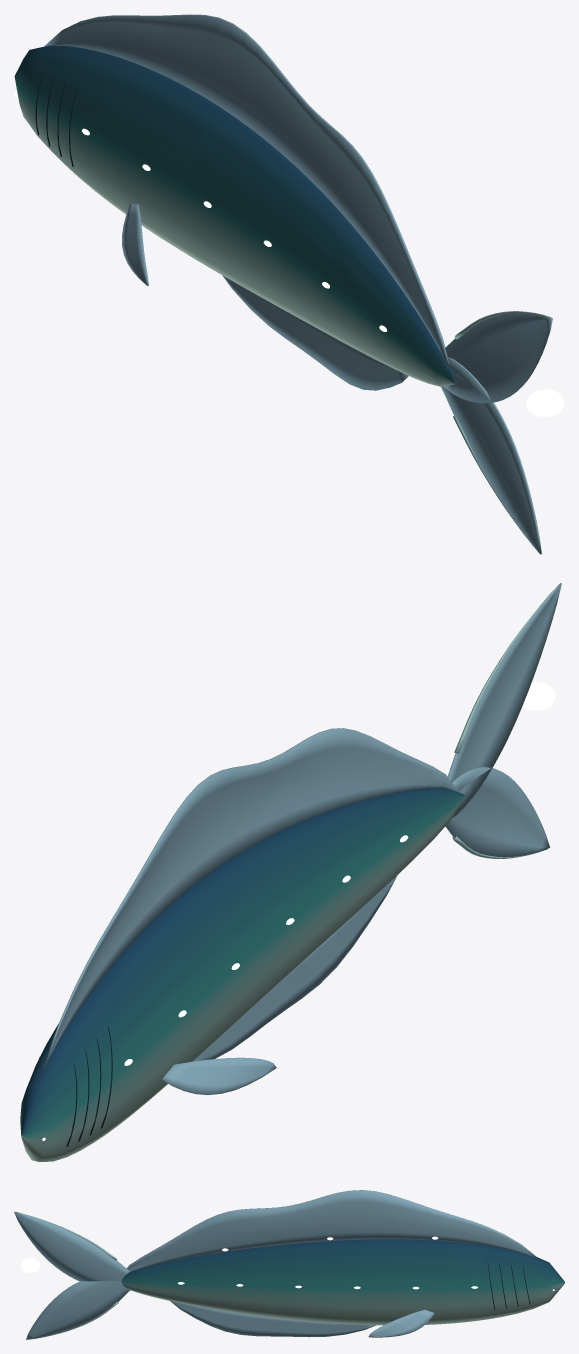
3 renders of one model, top to bottom at view 1: azimuth 30°, elevation 25°; view 2: azimuth 150°, elevation 25°; view 3: azimuth 270°, elevation 25°, orthographic. The views are drawn at different scales.
Parts seen in each view (by area): view 1: RIMWARD_HULL, RIMWARD_ENGINE_GLOW; view 2: RIMWARD_HULL, RIMWARD_ENGINE_GLOW; view 3: RIMWARD_HULL, RIMWARD_ENGINE_GLOW.
Boxes of the visible parts, bbox=[...] form: RIMWARD_HULL: bbox=[14, 14, 552, 554]; RIMWARD_ENGINE_GLOW: bbox=[525, 389, 564, 416]; RIMWARD_HULL: bbox=[20, 583, 561, 1161]; RIMWARD_ENGINE_GLOW: bbox=[522, 681, 555, 710]; RIMWARD_HULL: bbox=[14, 1190, 564, 1339]; RIMWARD_ENGINE_GLOW: bbox=[20, 1258, 40, 1272].
Size of the model in its own units: 1.29 by 2.39 by 7.8.
